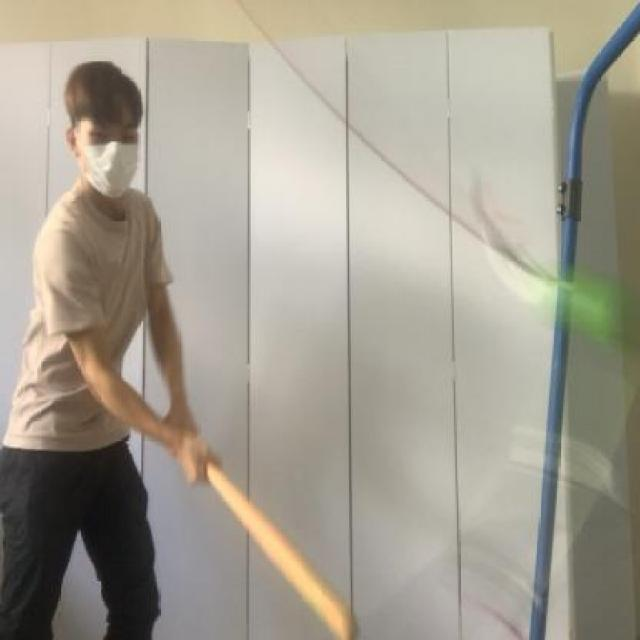baseball: (540, 244, 637, 356)
